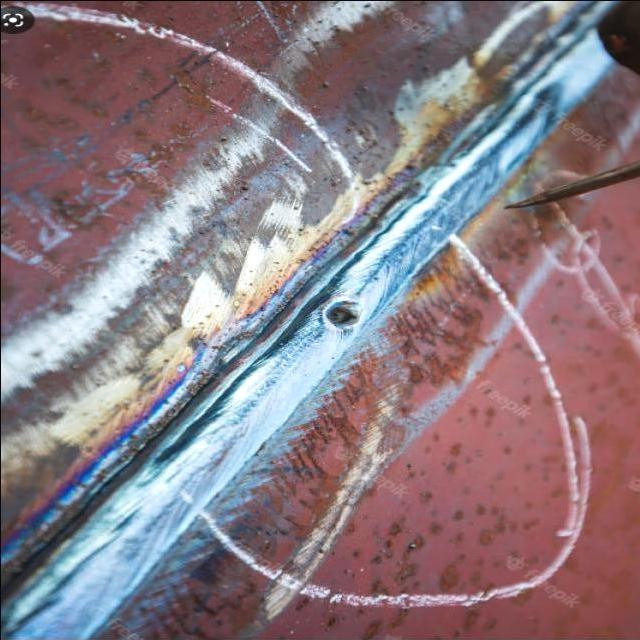defect: (318, 300, 359, 331)
